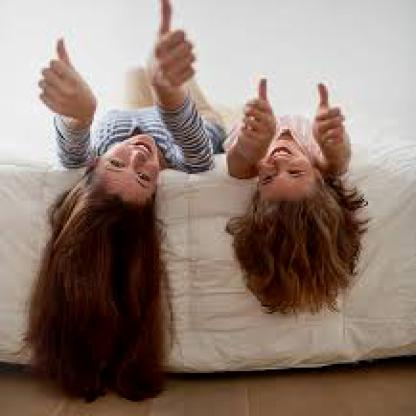Thumbs up: (163, 1, 202, 103), (34, 34, 79, 113), (244, 75, 279, 151), (320, 83, 345, 142)
